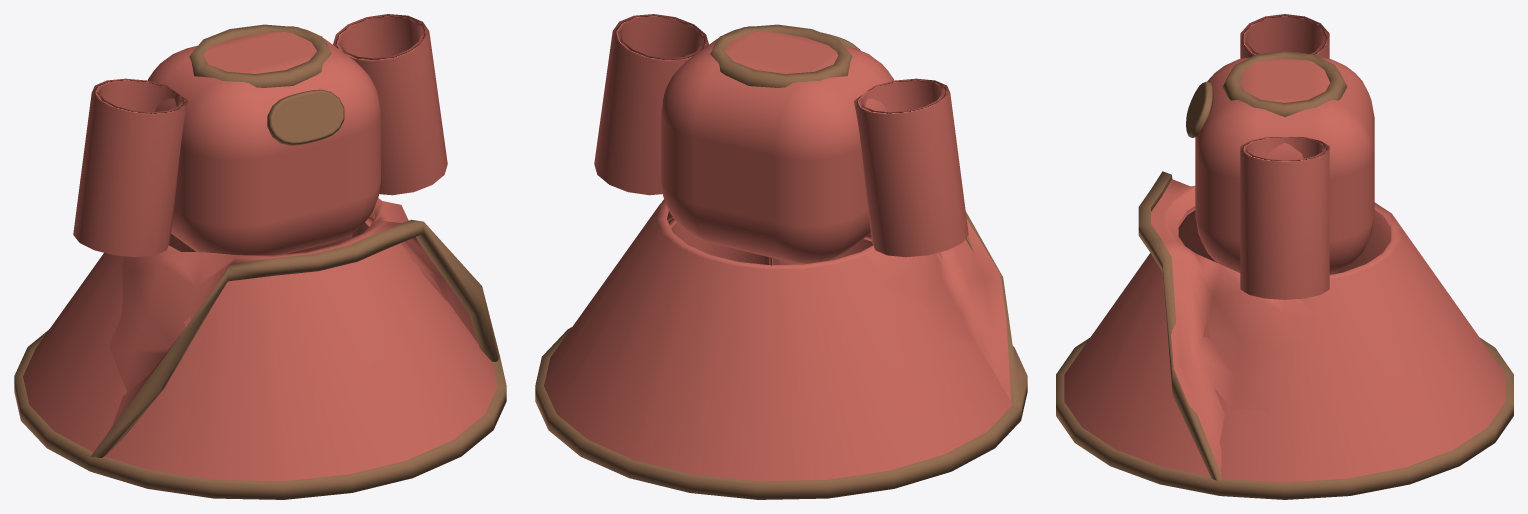
File: chima_jeogori.glb
3 views of the same model, side by side, from view 1: azimuth 30°, elevation 25°; view 2: azimuth 150°, elevation 25°; view 3: azimuth 270°, elevation 25° (orthographic). The views are drawn at different scales.
Parts seen in each view (by area): view 1: chima_jeogori_Body, chima_jeogori_Body_sit, chima_jeogori_ArmL, chima_jeogori_ArmR; view 2: chima_jeogori_Body, chima_jeogori_ArmL, chima_jeogori_Body_sit, chima_jeogori_ArmR, chima_jeogori_LegR_sit; view 3: chima_jeogori_Body, chima_jeogori_Body_sit, chima_jeogori_ArmR, chima_jeogori_ArmL.
Boxes of the visible parts, bbox=[...] form: chima_jeogori_Body: bbox=[14, 24, 506, 499]; chima_jeogori_Body_sit: bbox=[90, 51, 499, 457]; chima_jeogori_ArmL: bbox=[73, 78, 188, 257]; chima_jeogori_ArmR: bbox=[333, 14, 447, 195]; chima_jeogori_Body: bbox=[535, 24, 1027, 499]; chima_jeogori_ArmL: bbox=[853, 78, 968, 257]; chima_jeogori_Body_sit: bbox=[661, 49, 1020, 405]; chima_jeogori_ArmR: bbox=[594, 14, 708, 195]; chima_jeogori_LegR_sit: bbox=[667, 217, 772, 265]; chima_jeogori_Body: bbox=[1056, 51, 1513, 499]; chima_jeogori_Body_sit: bbox=[1138, 101, 1391, 481]; chima_jeogori_ArmR: bbox=[1240, 137, 1329, 299]; chima_jeogori_ArmL: bbox=[1240, 14, 1329, 58].
Bounding box in the file's own units: 0.748 × 0.6289 × 0.7404.
